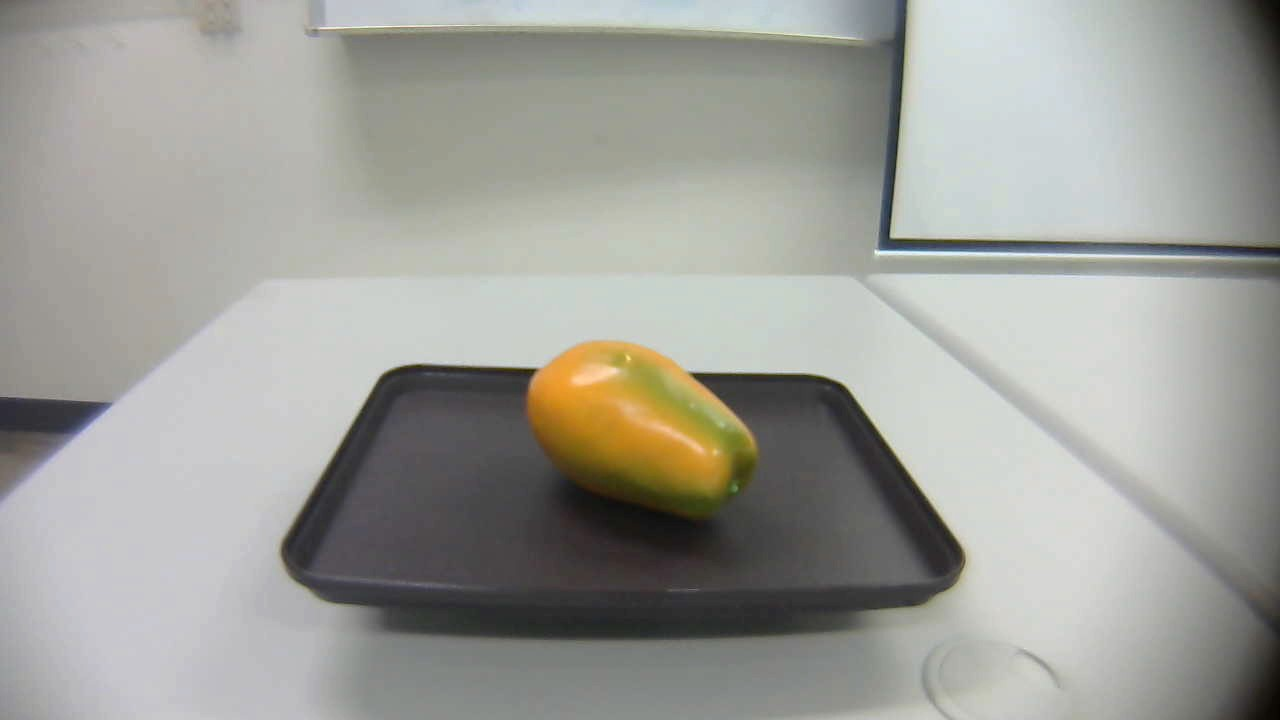papya: (522, 340, 770, 532)
